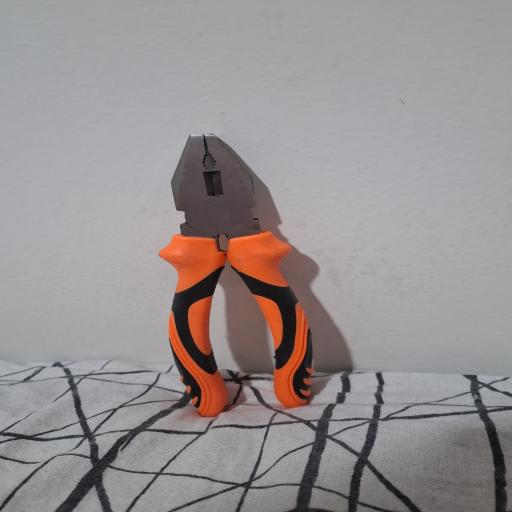alicate: (154, 129, 321, 418)
